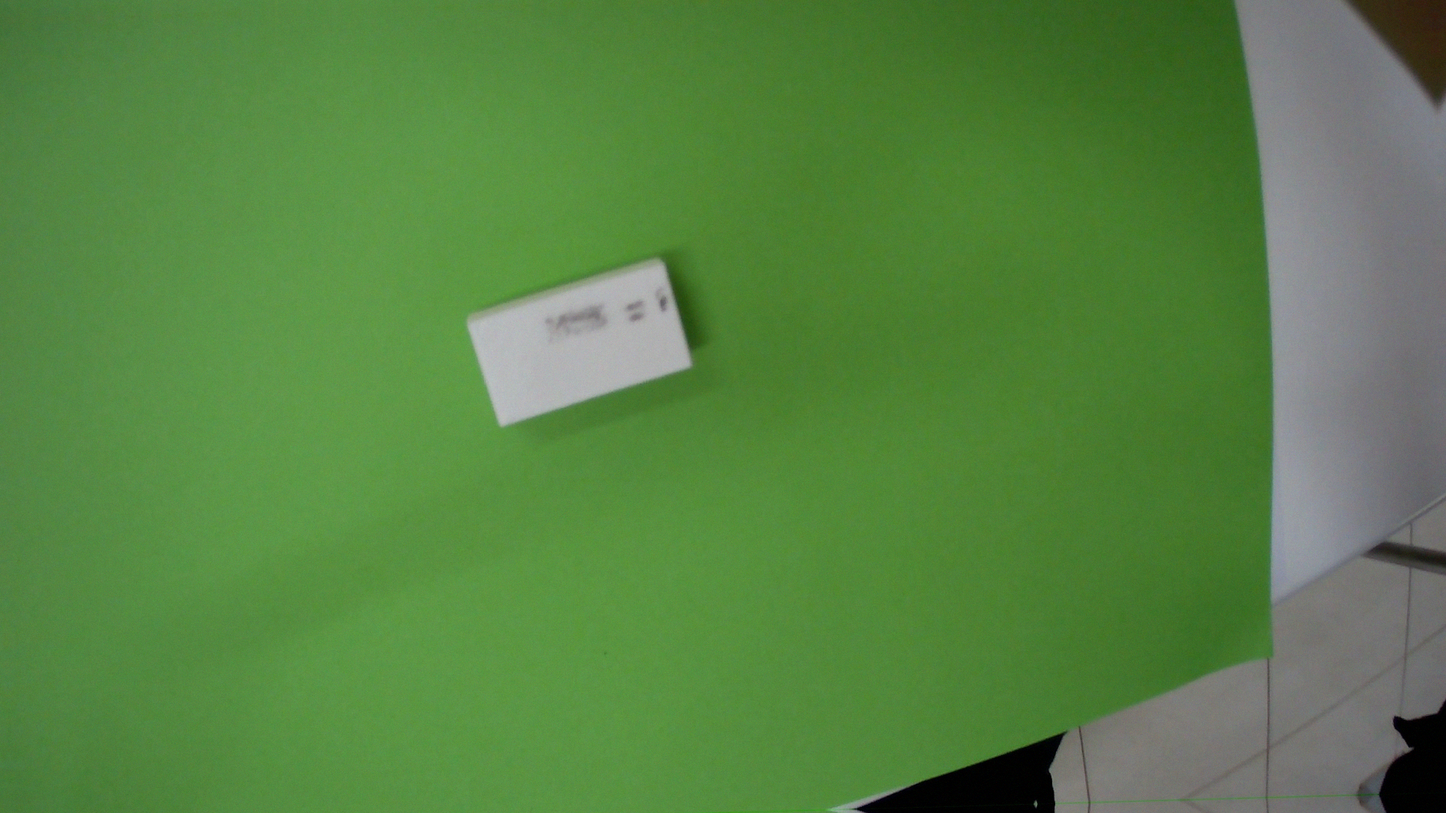gom: (464, 252, 706, 428)
